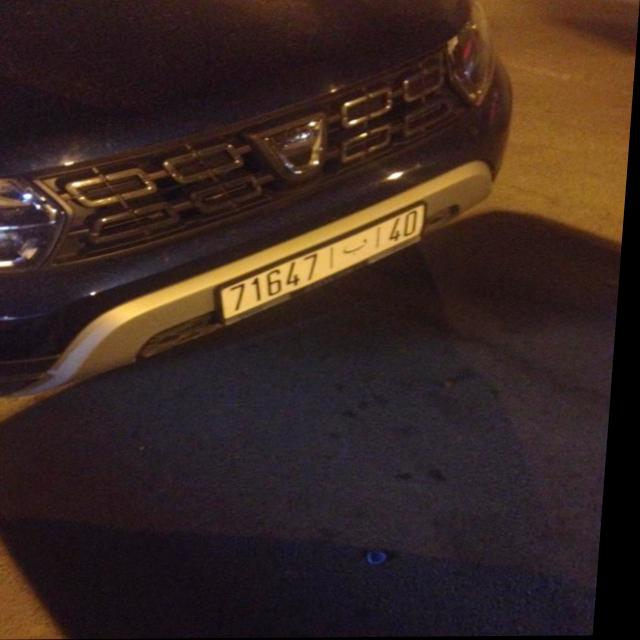License-Plate: (225, 205, 428, 320)
